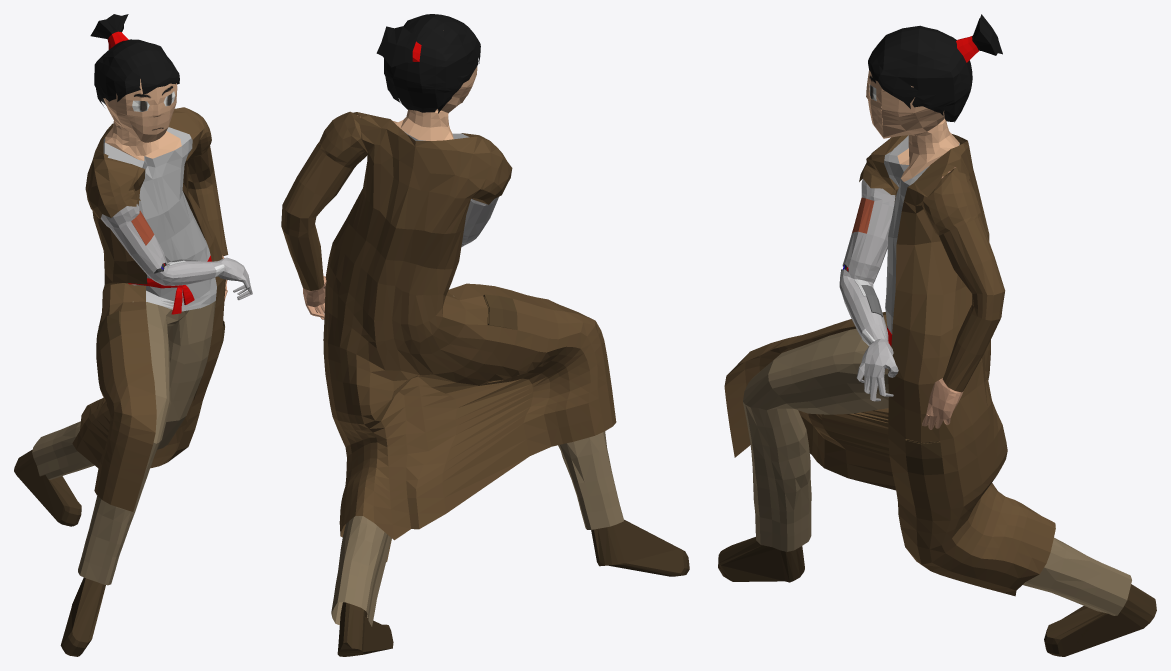
Rendered from One_DL_000007.obj.
3 renders of one model, left to right at view 1: azimuth 30°, elevation 25°; view 2: azimuth 150°, elevation 25°; view 3: azimuth 270°, elevation 25°, orthographic. The views are drawn at different scales.
Visible parts, largest first — view 1: Hair_Cube.004; view 2: Hair_Cube.004; view 3: Hair_Cube.004.
Boxes of the visible parts, x1,y1,x2,y2 form: Hair_Cube.004: (14, 14, 252, 656); Hair_Cube.004: (281, 14, 689, 656); Hair_Cube.004: (718, 14, 1156, 656).
Size of the model in its own units: 1.74 by 3.46 by 2.14.
